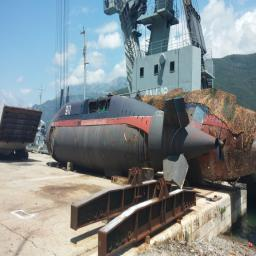submarine: (51, 95, 229, 183)
